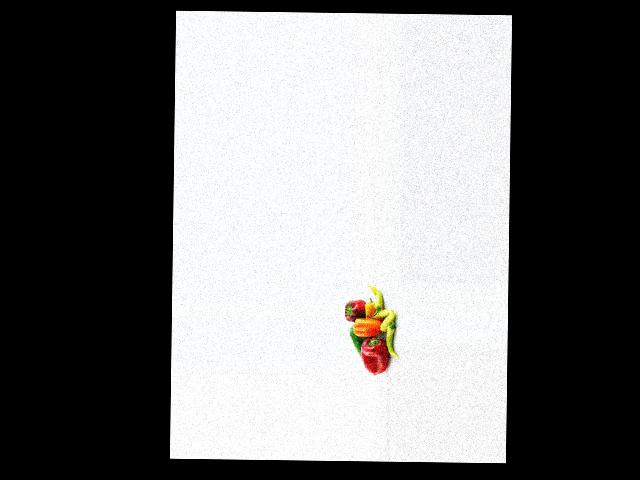bell_pepper: (386, 319, 398, 360)
